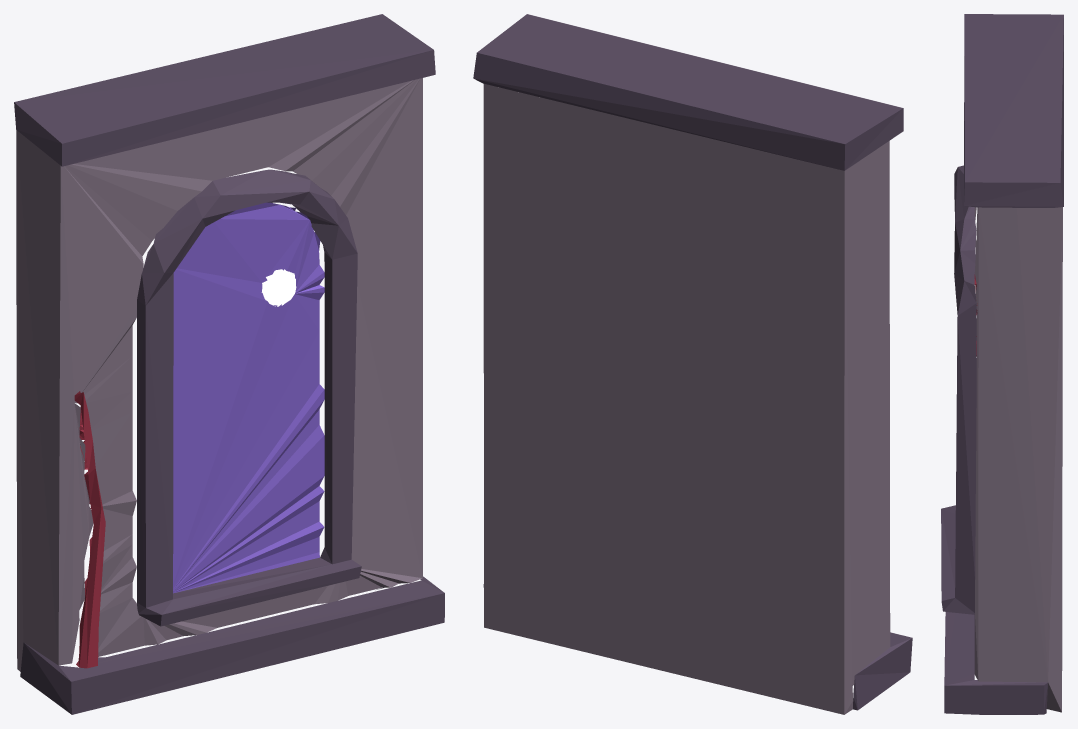
File: tower_window.glb
3 renders of one model, left to right at view 1: azimuth 30°, elevation 25°; view 2: azimuth 150°, elevation 25°; view 3: azimuth 270°, elevation 25°, orthographic. The views are drawn at different scales.
Parts seen in each view (by area): view 1: tower_window; view 2: tower_window; view 3: tower_window.
Boxes of the visible parts, box(x1,y1,x2,y2) form: tower_window: box(14, 14, 444, 714); tower_window: box(473, 14, 912, 714); tower_window: box(941, 14, 1063, 714).
Bounding box in the file's own units: 3.32 × 4.82 × 1.
